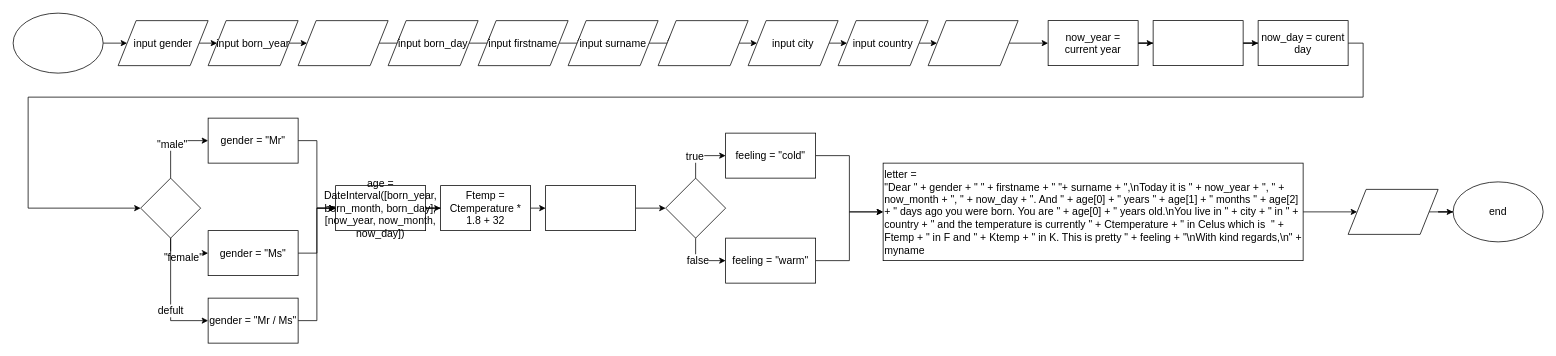
The diagram is 1556 pixels wide and 356 high, and some of its shapes have lost their labels. The shapes that lost their labels are listed below. From the top down, each one's centre as x and y in pixels, then its label:
At pixel 57 42: "start".
At pixel 342 43: "input born_month".
At pixel 702 43: "input myname".
At pixel 972 43: "input Ctemperature".
At pixel 1197 43: "now_month = current month".
At pixel 170 207: "gender".
At pixel 590 208: "Ktemp = Ctemperature + 273".
At pixel 695 207: "Ftemp < 60".
At pixel 1392 211: "output letter".
